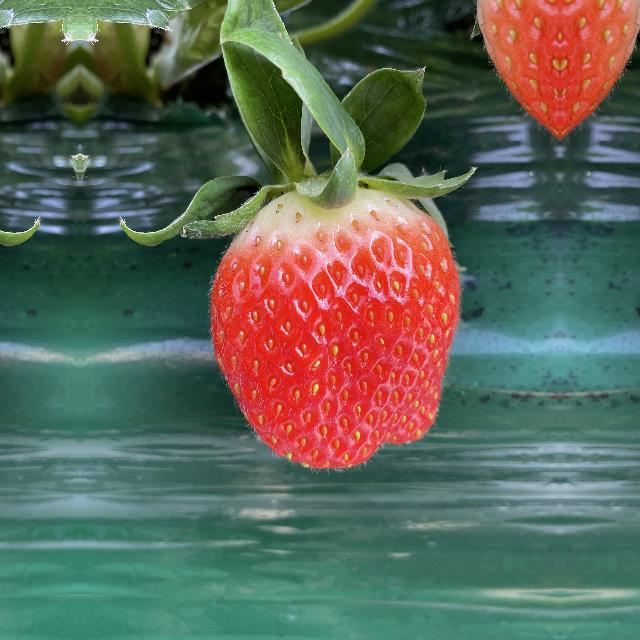Health_100: (200, 181, 464, 471)
